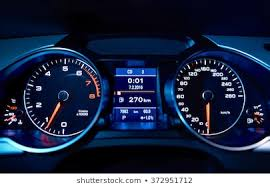Digital_Meter: (115, 89, 157, 108)
